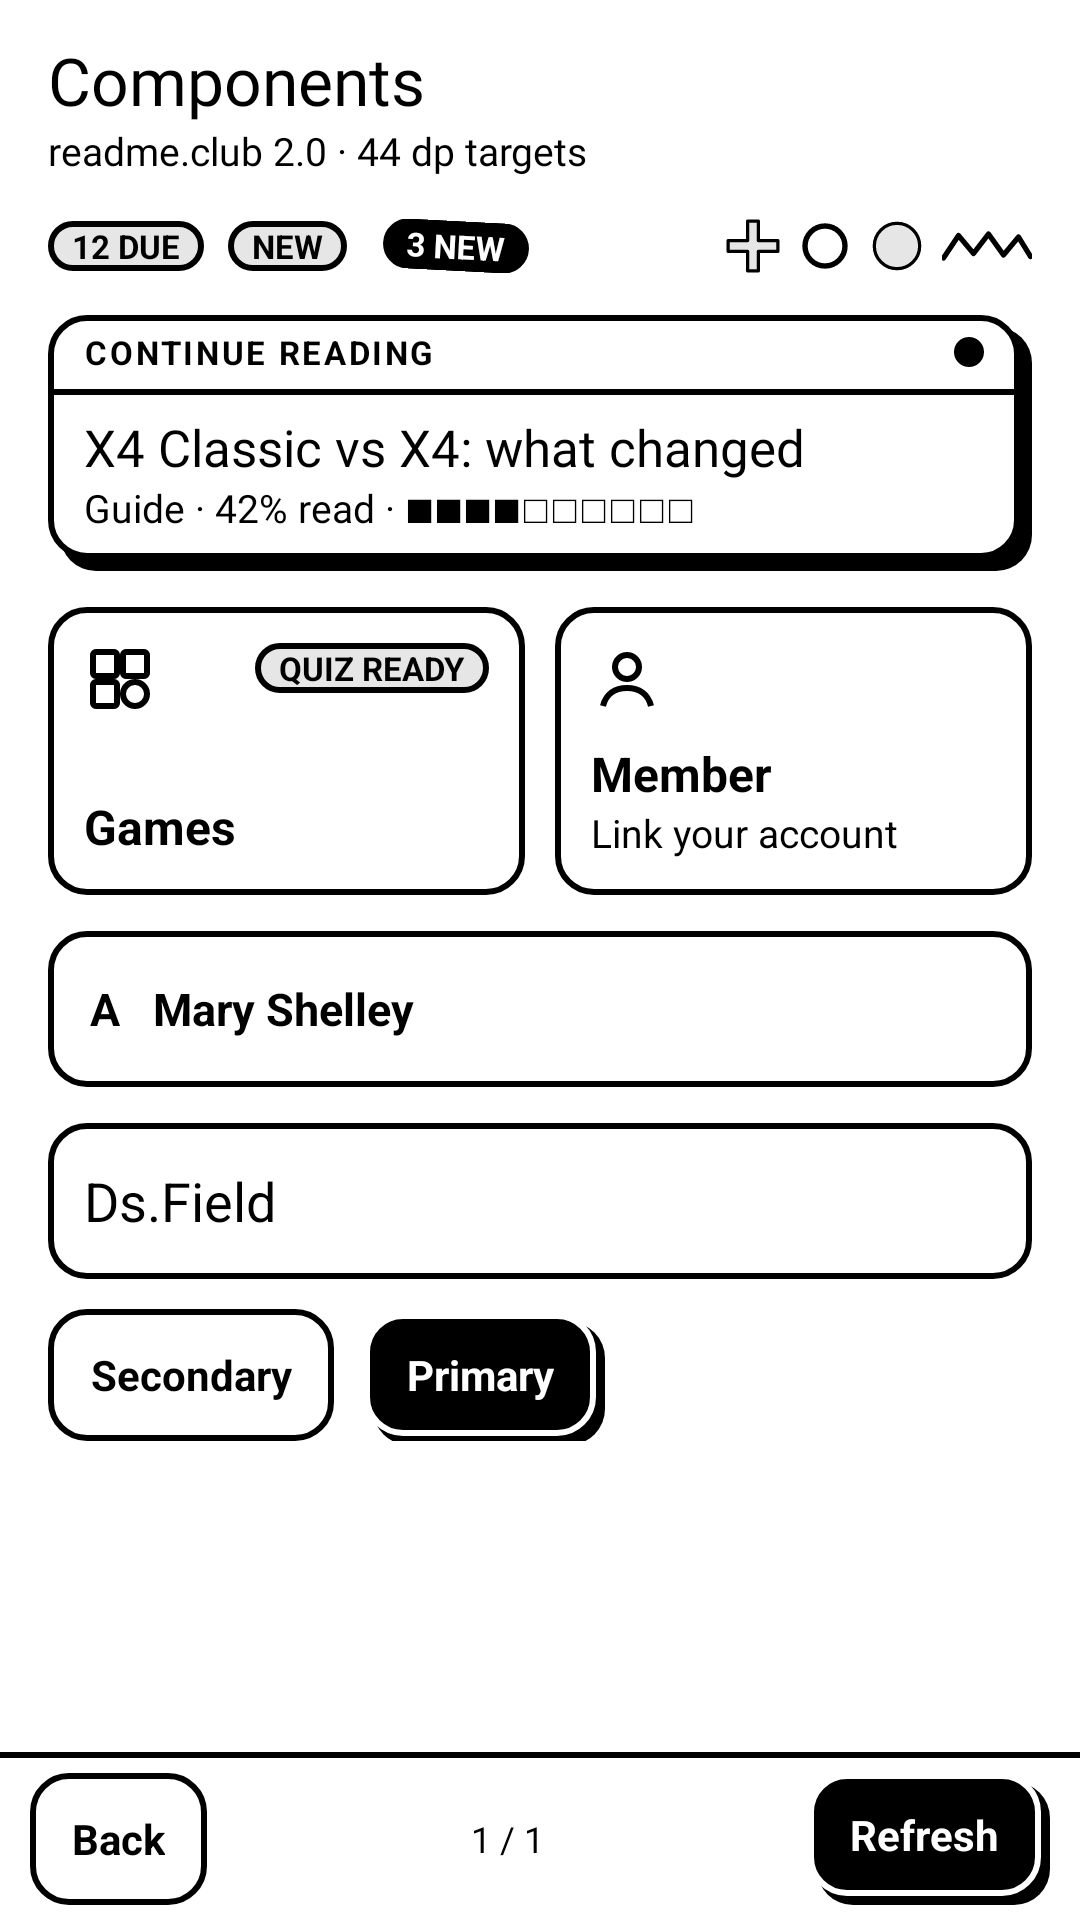

Named icons in this screenshot (1080×1920) and their centers, point (x, y):
deco circle: point (897, 246)
deco plus: point (753, 246)
deco ring: point (825, 246)
deco zigzag: point (987, 246)
dot: point (969, 352)
